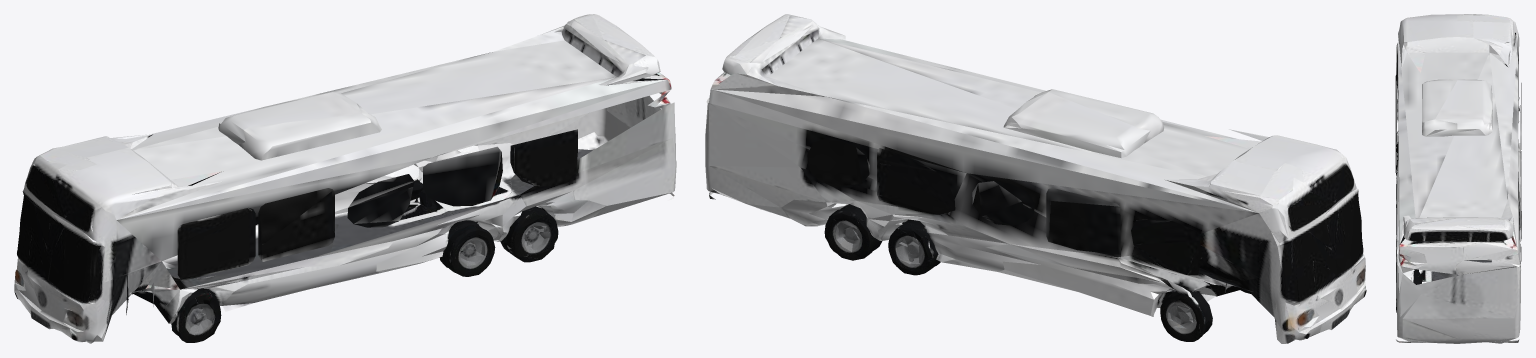
The model's file is bus.glb.
The picture shows the model from 3 angles, left to right: view 1: azimuth 30°, elevation 25°; view 2: azimuth 150°, elevation 25°; view 3: azimuth 270°, elevation 25°; orthographic projection. The views are drawn at different scales.
Visible parts, largest first — view 1: output_unwrapped; view 2: output_unwrapped; view 3: output_unwrapped.
Boxes of the visible parts, <box> form: output_unwrapped: <box>14,14,676,343</box>; output_unwrapped: <box>705,14,1366,343</box>; output_unwrapped: <box>1395,14,1521,343</box>.
Bounding box in the file's own units: 0.9492 × 0.2563 × 0.2148.
Materials: 1 (1 with a texture image).
